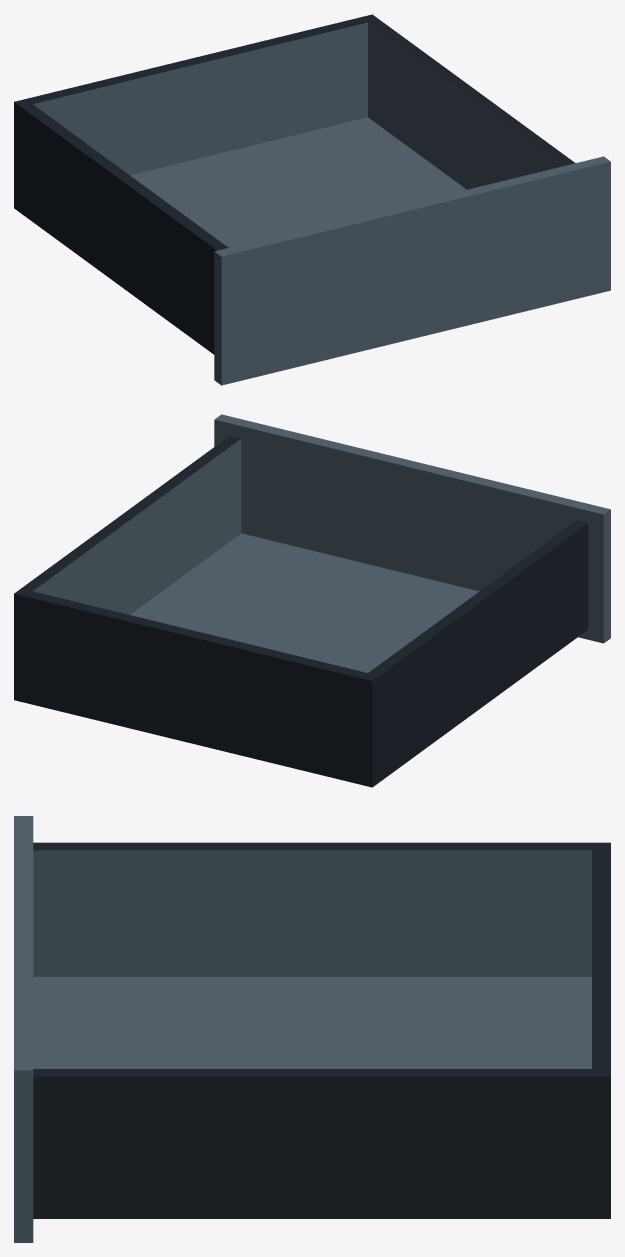
File: drawer_move.fbx
3 renders of one model, top to bottom at view 1: azimuth 30°, elevation 25°; view 2: azimuth 150°, elevation 25°; view 3: azimuth 270°, elevation 25°, orthographic. The views are drawn at different scales.
Parts seen in each view (by area): view 1: Cube.002; view 2: Cube.002; view 3: Cube.002.
Boxes of the visible parts, bbox=[...] form: Cube.002: bbox=[14, 14, 610, 385]; Cube.002: bbox=[14, 414, 610, 787]; Cube.002: bbox=[14, 816, 610, 1242].
Bounding box in the file's own units: 97.77 × 30.94 × 97.02.
